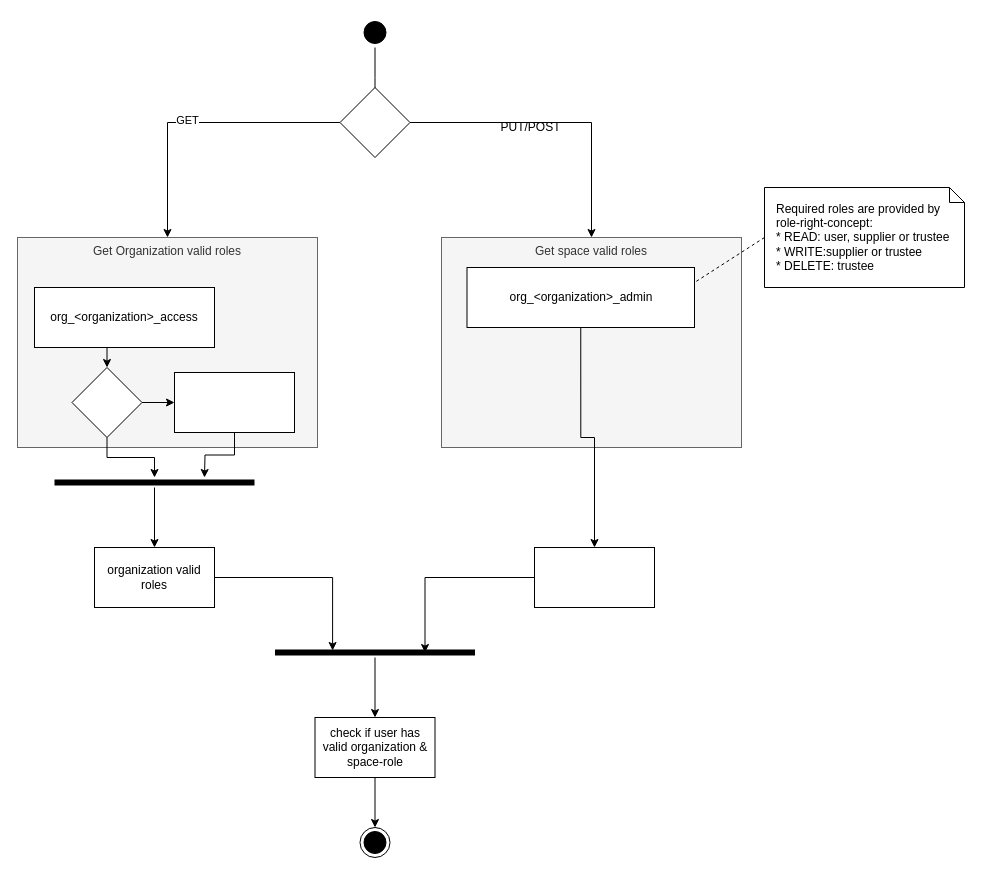
The diagram is 982 pixels wide and 875 high, and some of its shapes have lost their labels. The shapes that lost their labels are listed below. From the top down, each one's centre as x and y in pixels, then its label:
At (x=374, y=122): "request?".
At (x=106, y=402): "organization public?".
At (x=234, y=402): "add org_all_public".
At (x=594, y=577): "space valid roles".
